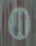Two way: (5, 1, 34, 41)
